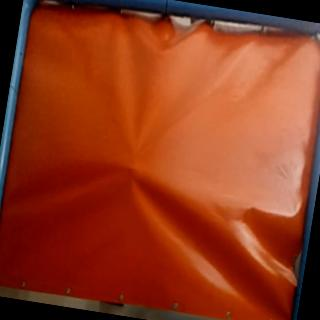Hit-hRxx: (126, 159, 143, 177)
